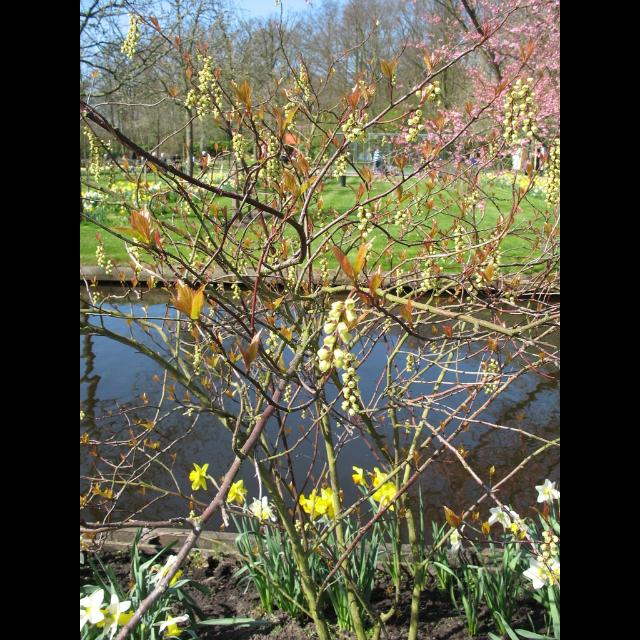Flower: (80, 1, 560, 640), (188, 461, 210, 491)
